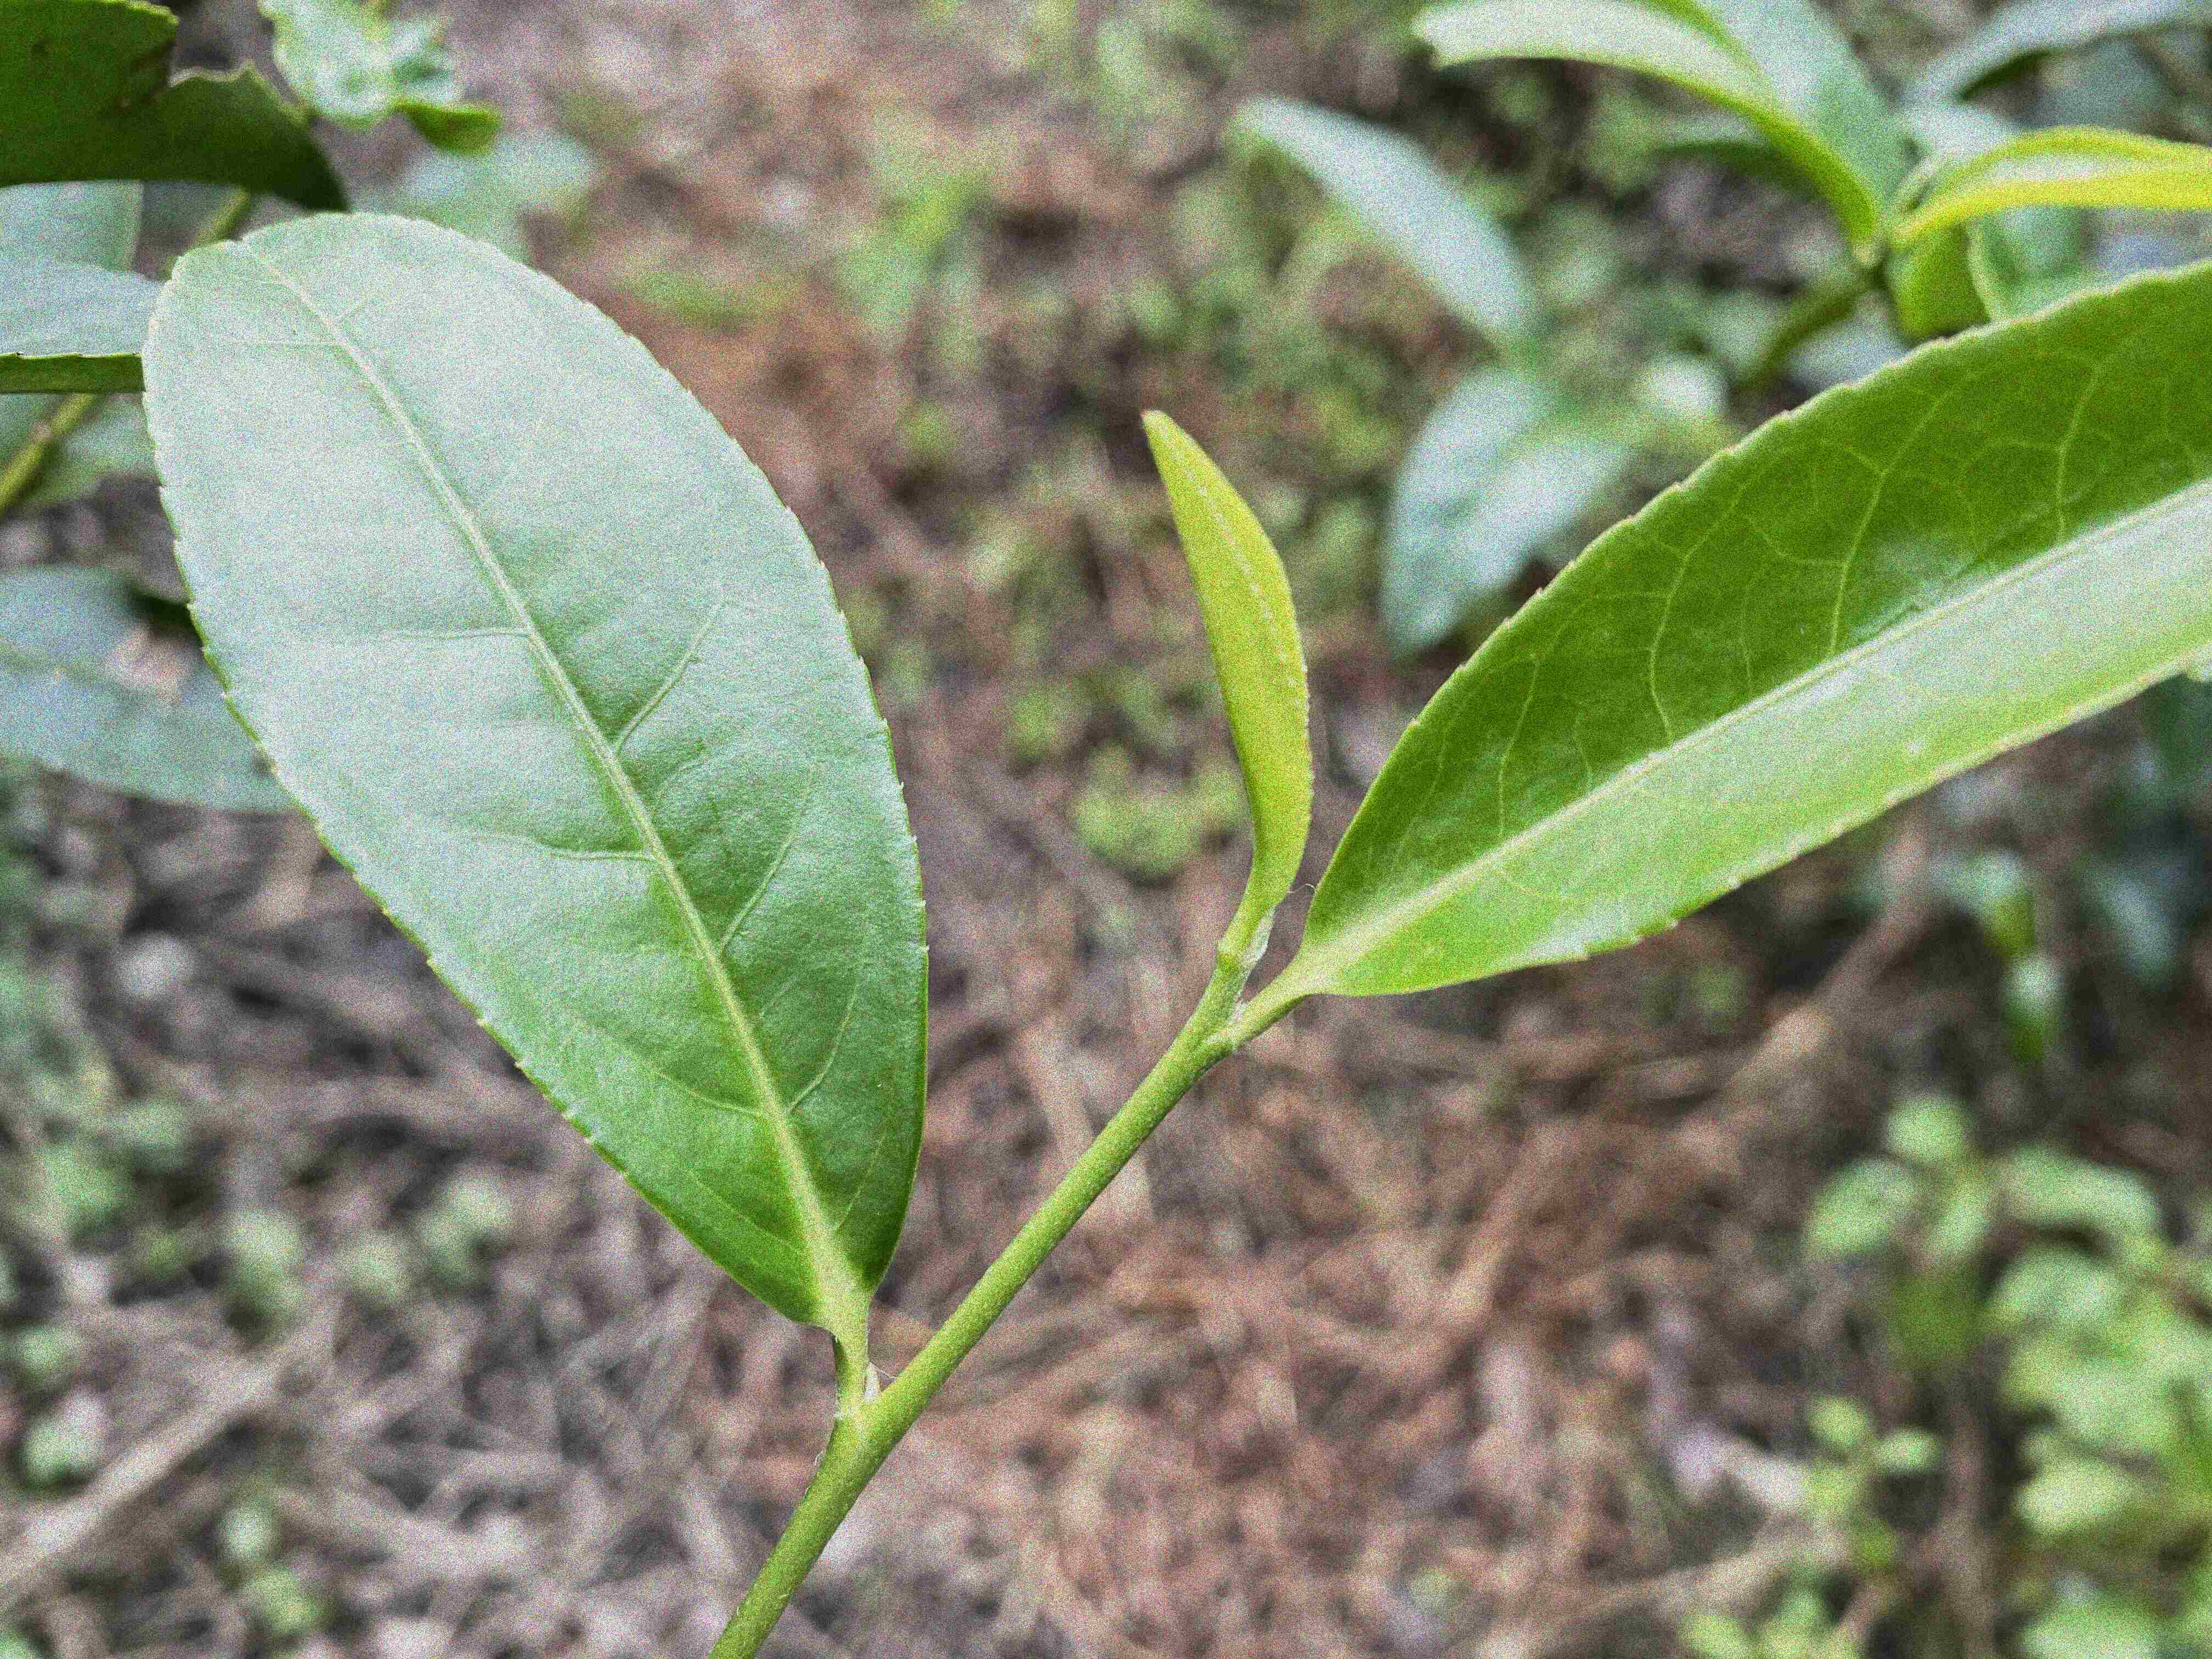healthy: (134, 207, 932, 1323), (1308, 261, 2209, 999)
